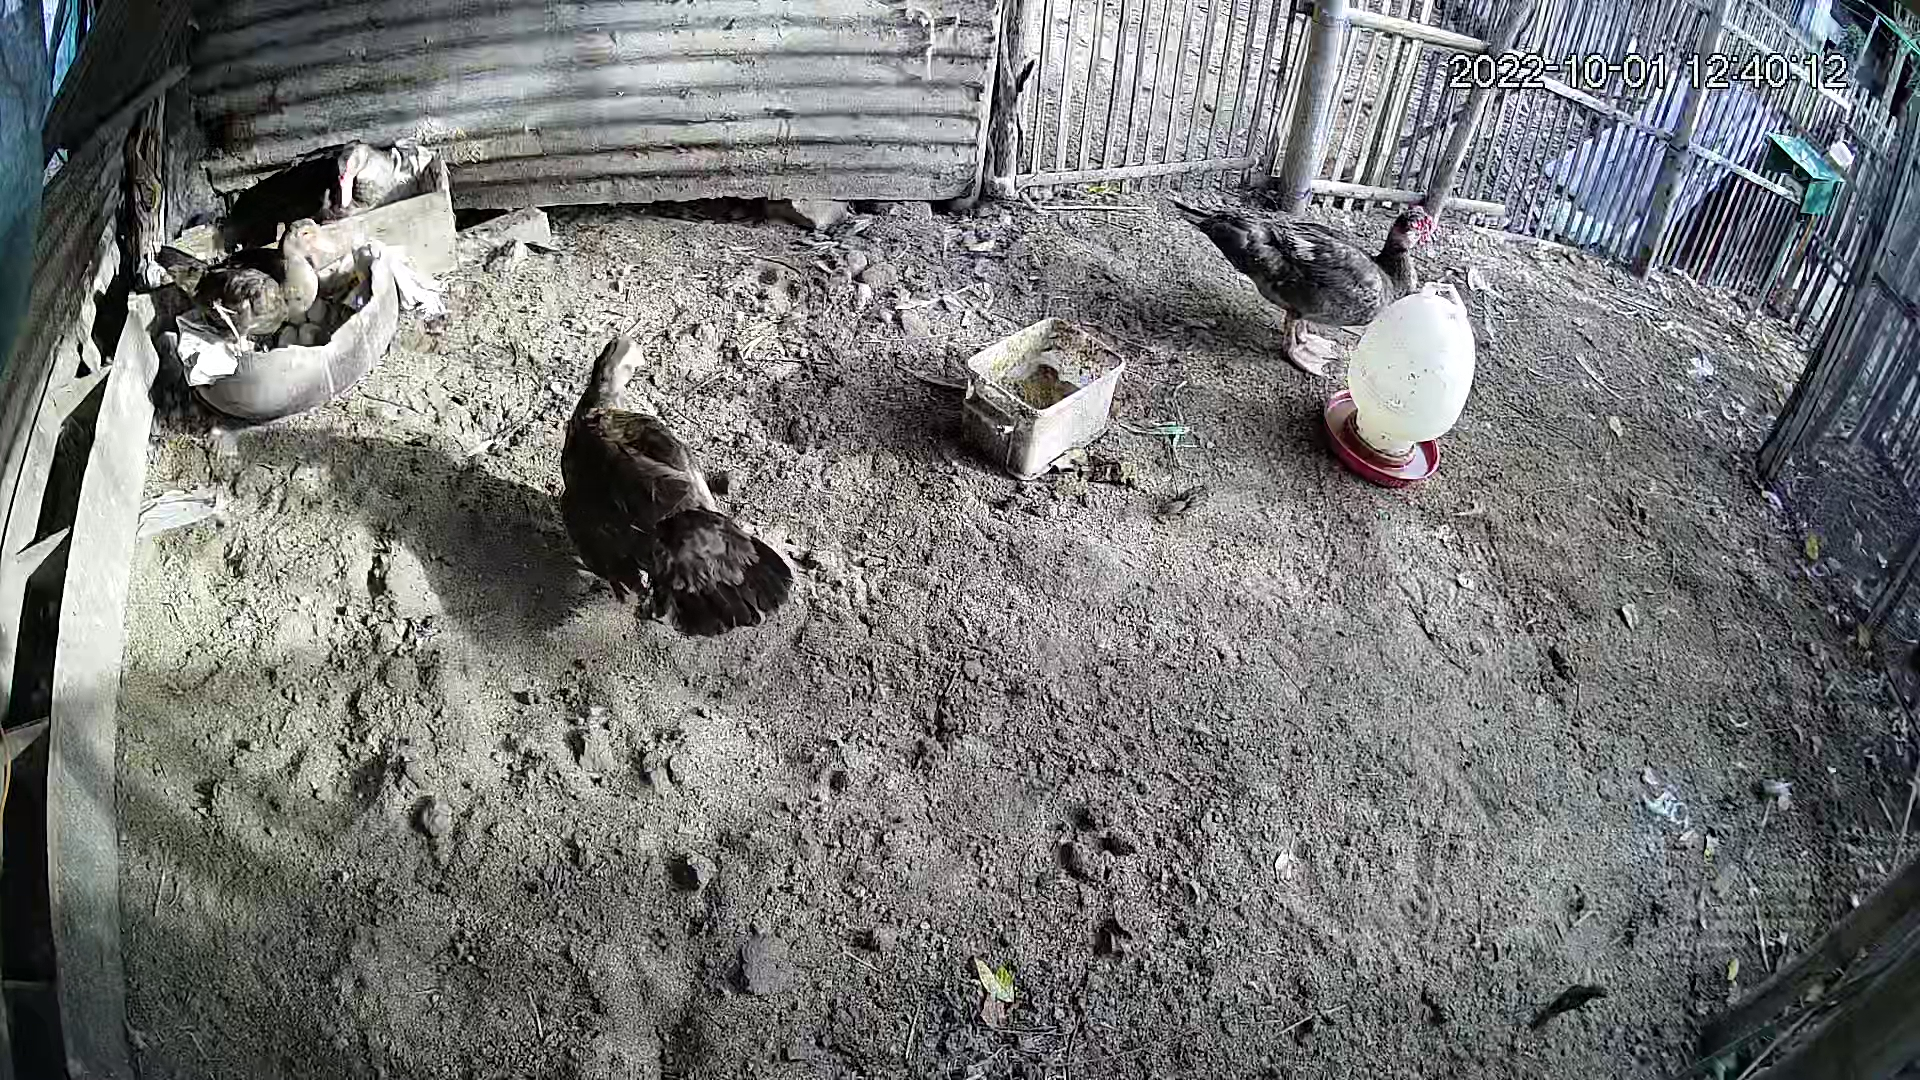Mengeram: (129, 112, 455, 415)
